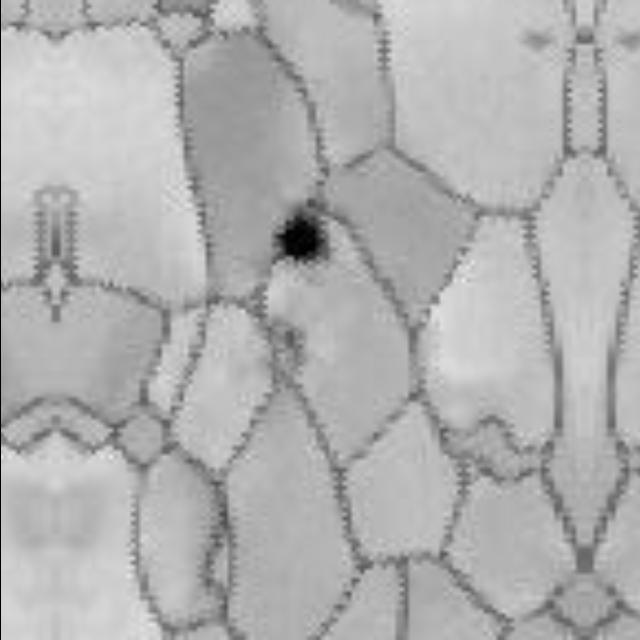good_void: (273, 205, 335, 273)
